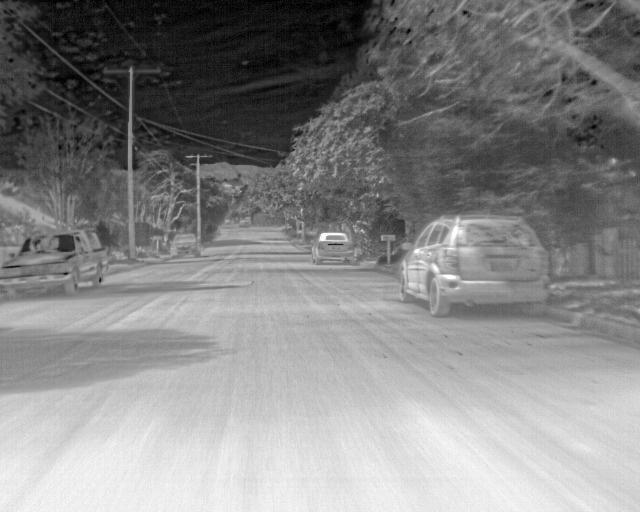car: (396, 211, 551, 317), (0, 226, 108, 301), (307, 229, 353, 265), (168, 230, 199, 258)
